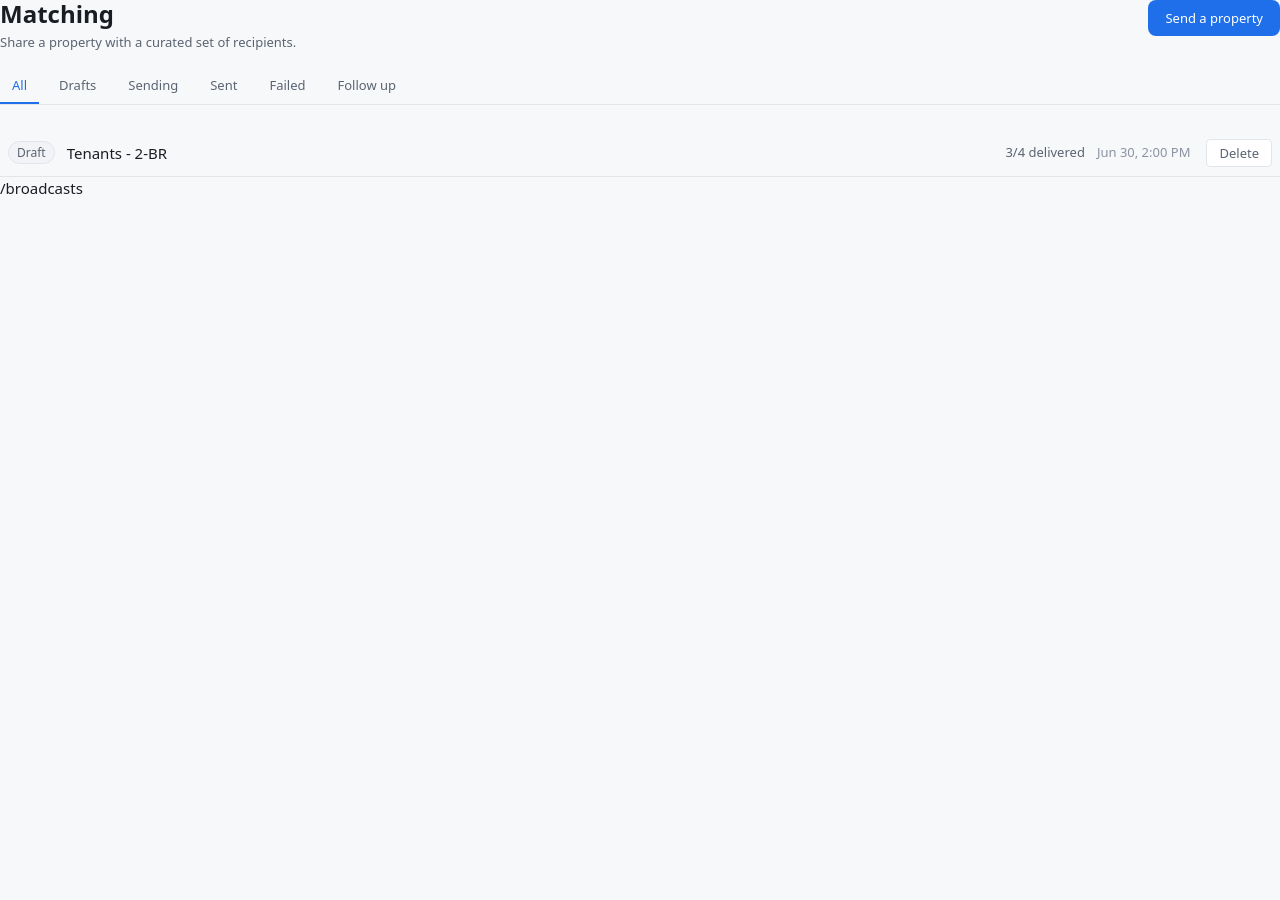
BroadcastsList — delete draft › confirming the modal deletes the draft and removes its row
Check: the list named "Property sends" is shown, box [0, 129, 1279, 178]
Click the button with aria-label "Delete draft:" at (1239, 153), box [1206, 139, 1272, 167]
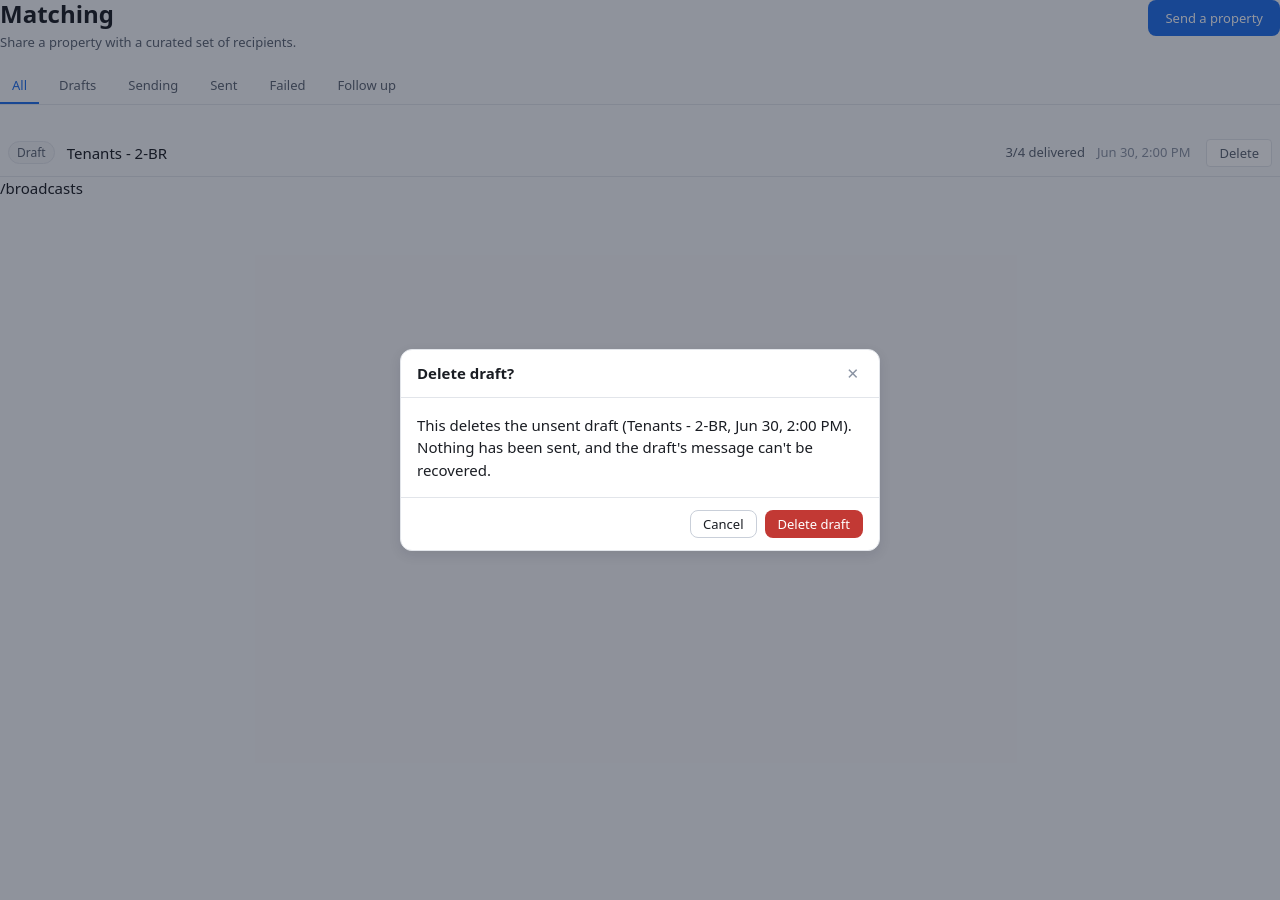
Click the button "Delete draft" at (814, 524), box [764, 510, 863, 538]
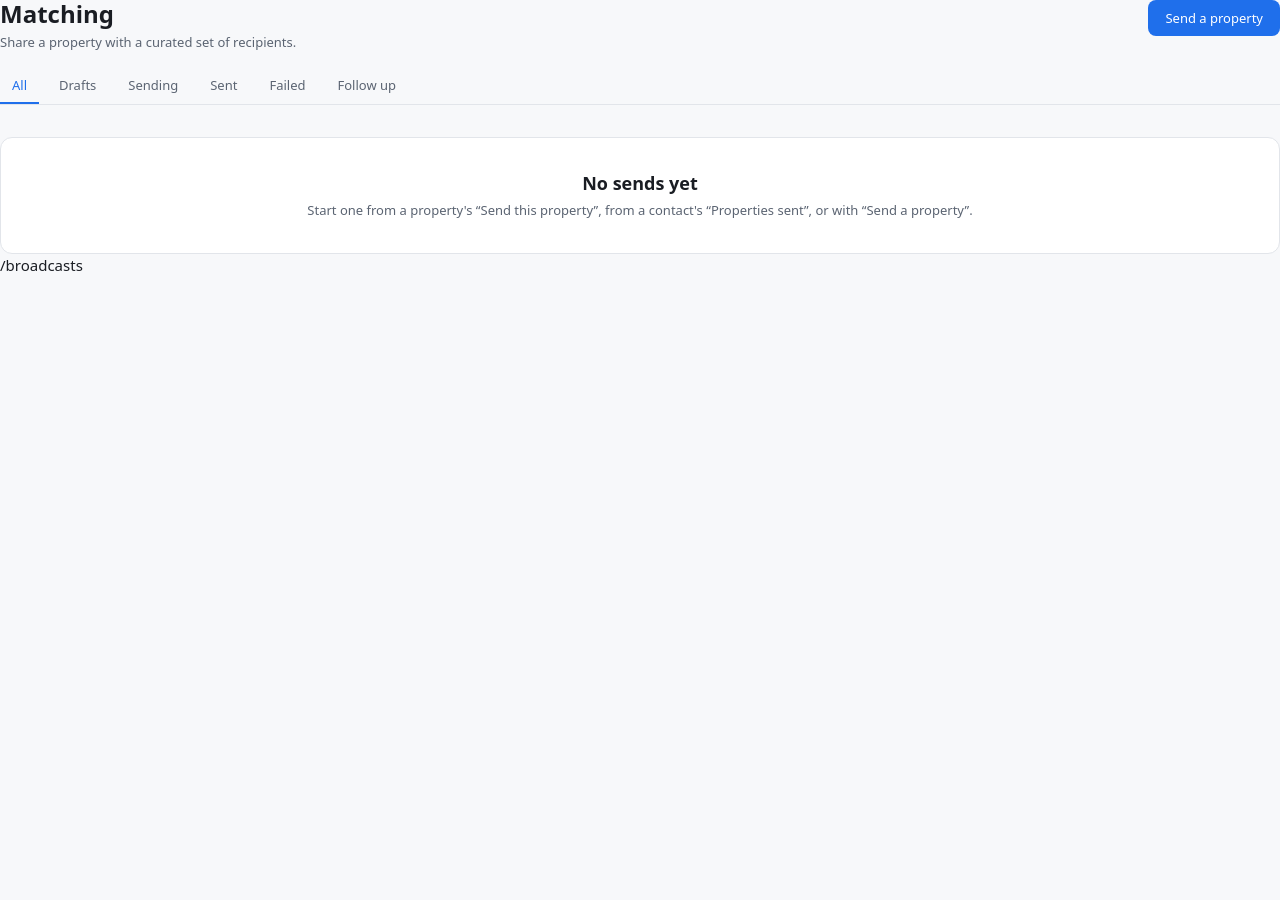
Check: the text "No sends yet" is shown, box [582, 171, 698, 195]
Check: the dialog is gone
